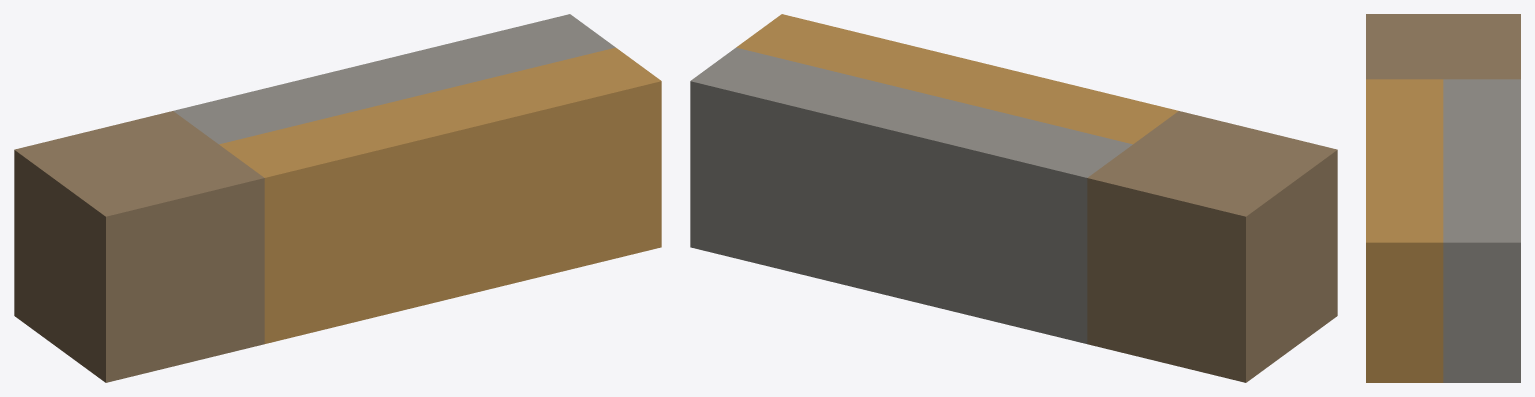
The model's file is cuchillo_cocina_cobre_01.glb.
3 renders of one model, left to right at view 1: azimuth 30°, elevation 25°; view 2: azimuth 150°, elevation 25°; view 3: azimuth 270°, elevation 25°, orthographic. The views are drawn at different scales.
Parts seen in each view (by area): view 1: cuchillo_cocina_cobre; view 2: cuchillo_cocina_cobre; view 3: cuchillo_cocina_cobre.
Part boxes in pixels (x1,y1,x2,y2): cuchillo_cocina_cobre: [14, 14, 661, 382]; cuchillo_cocina_cobre: [690, 14, 1337, 382]; cuchillo_cocina_cobre: [1366, 14, 1520, 382].
Size of the model in its own units: 0.7 by 0.2 by 0.2.
